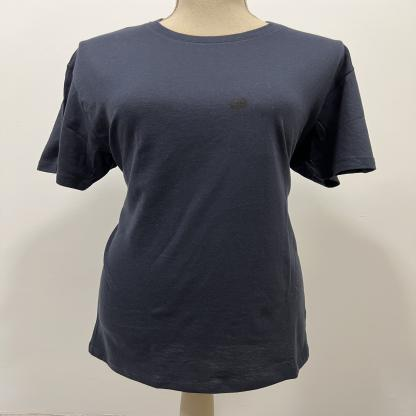stain: (226, 95, 252, 114)
